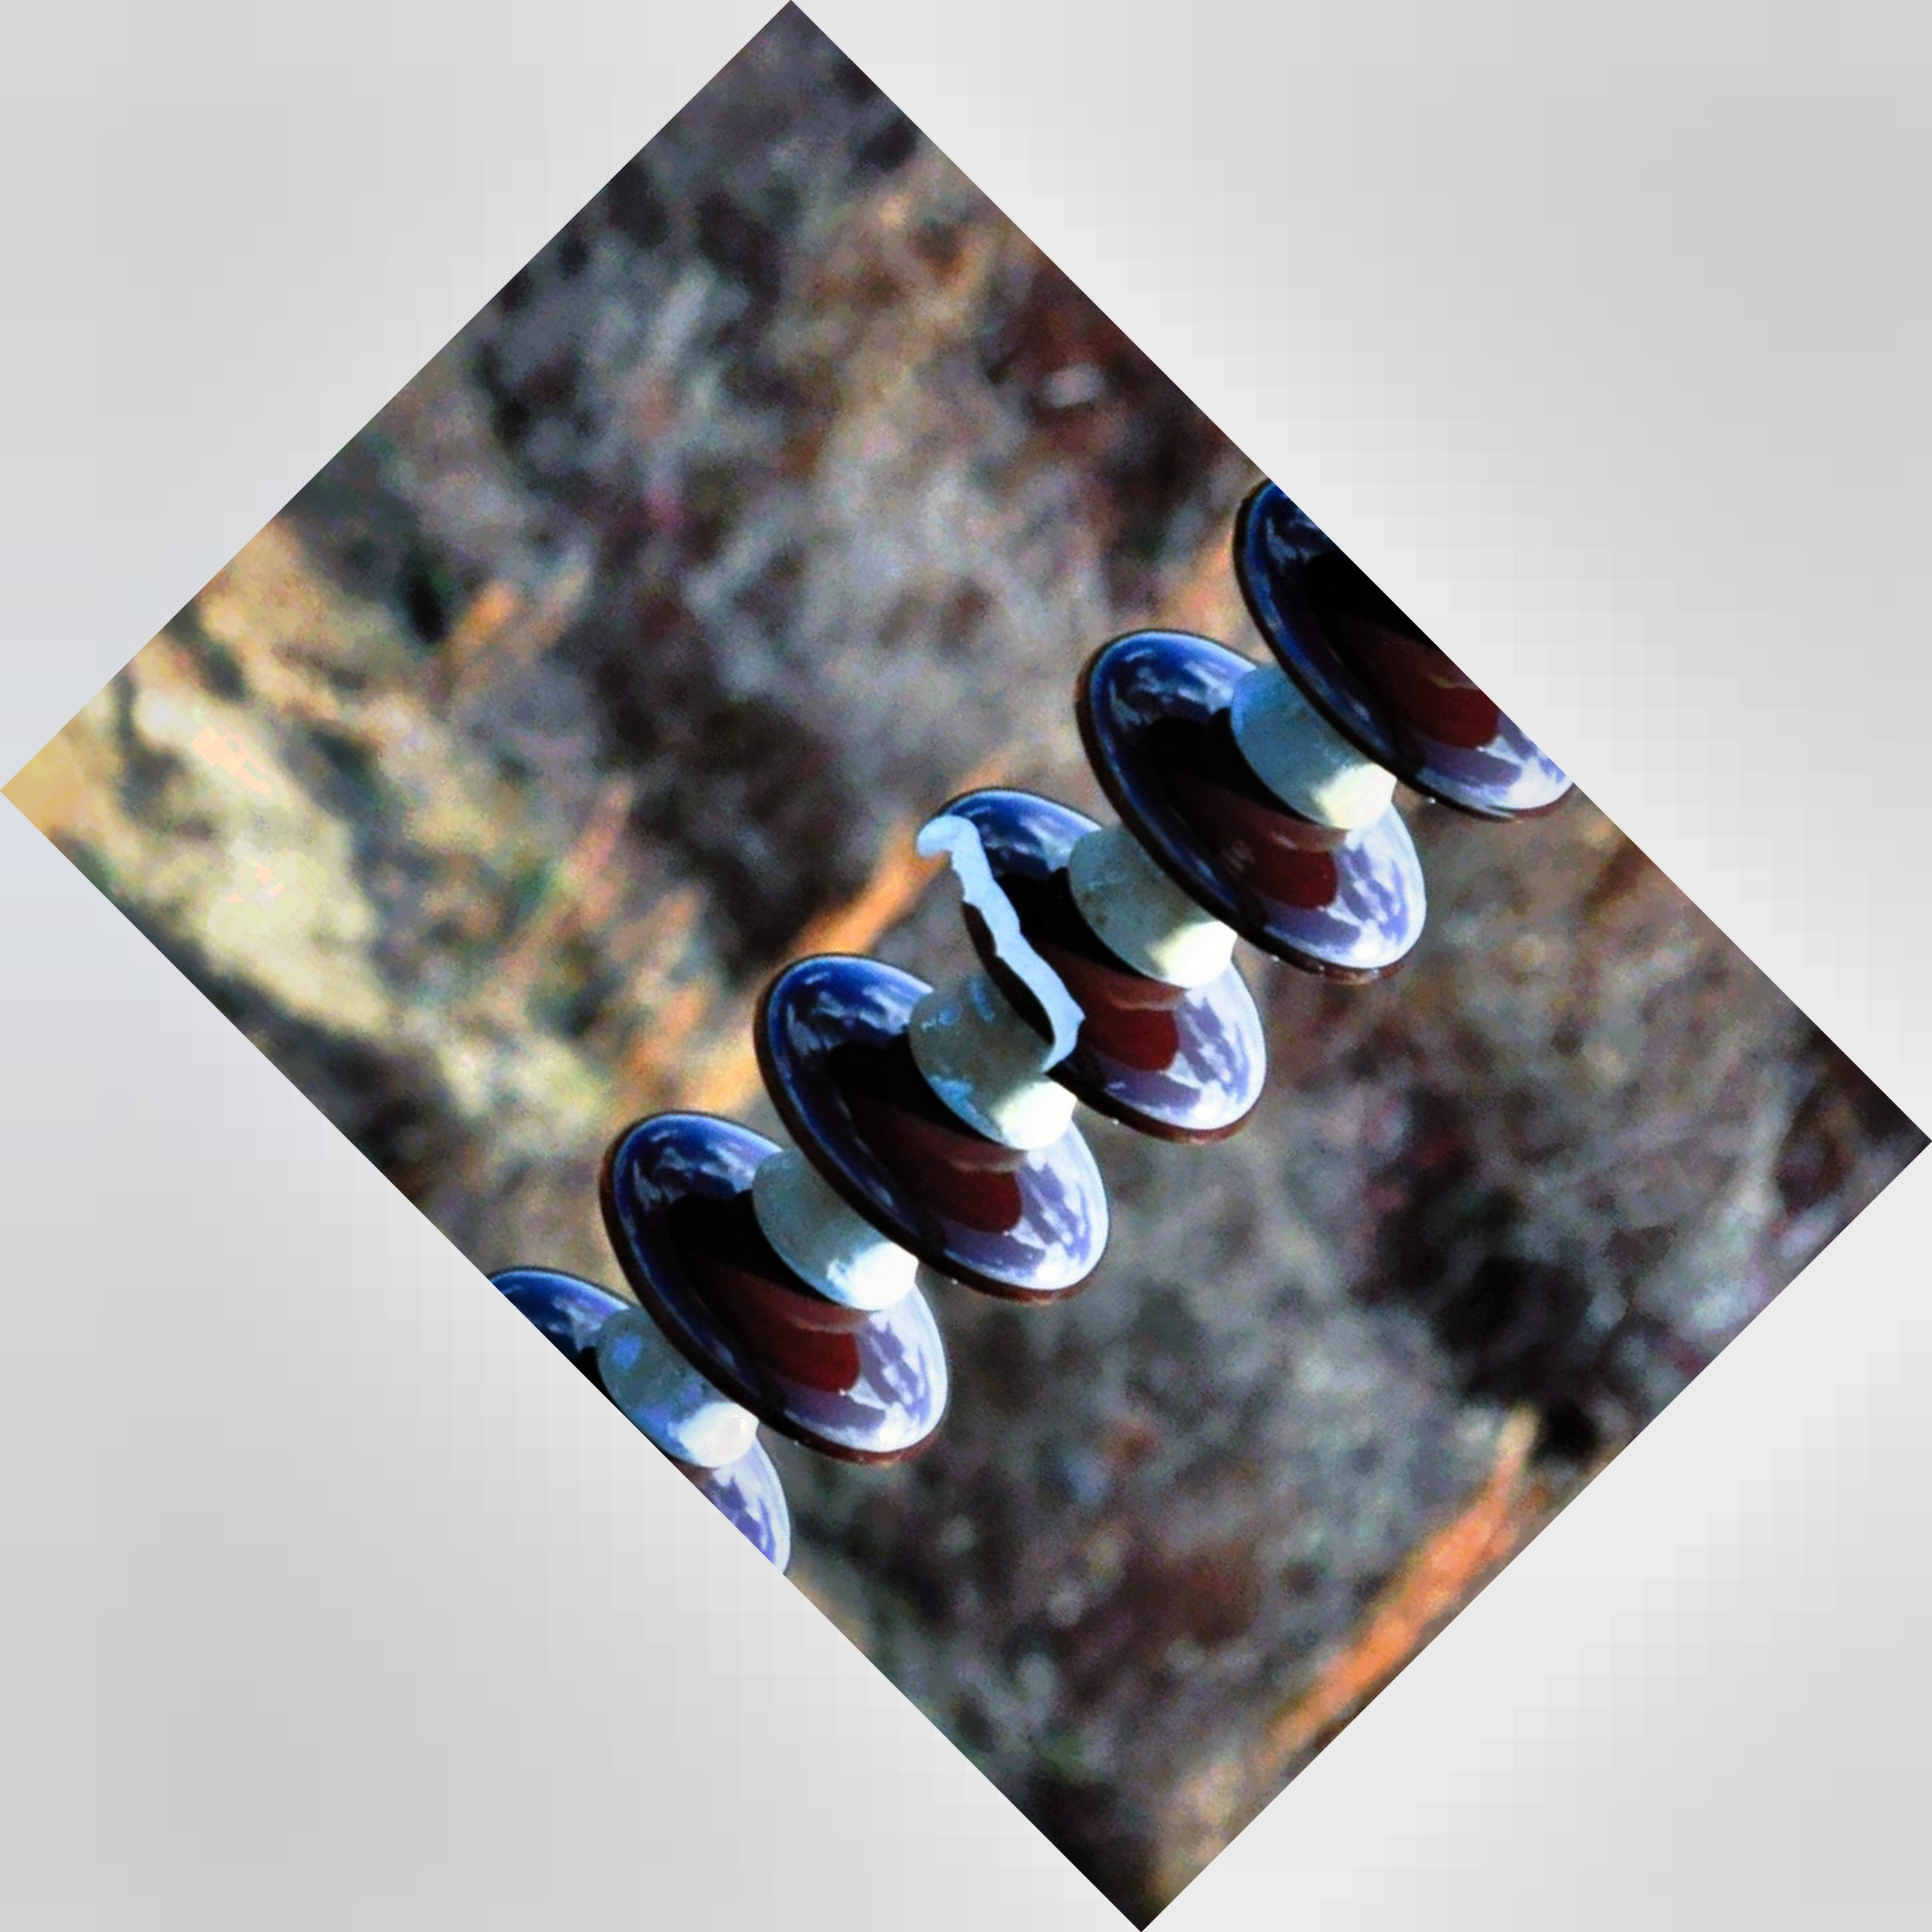insulator breakage: (892, 771, 1277, 1157)
